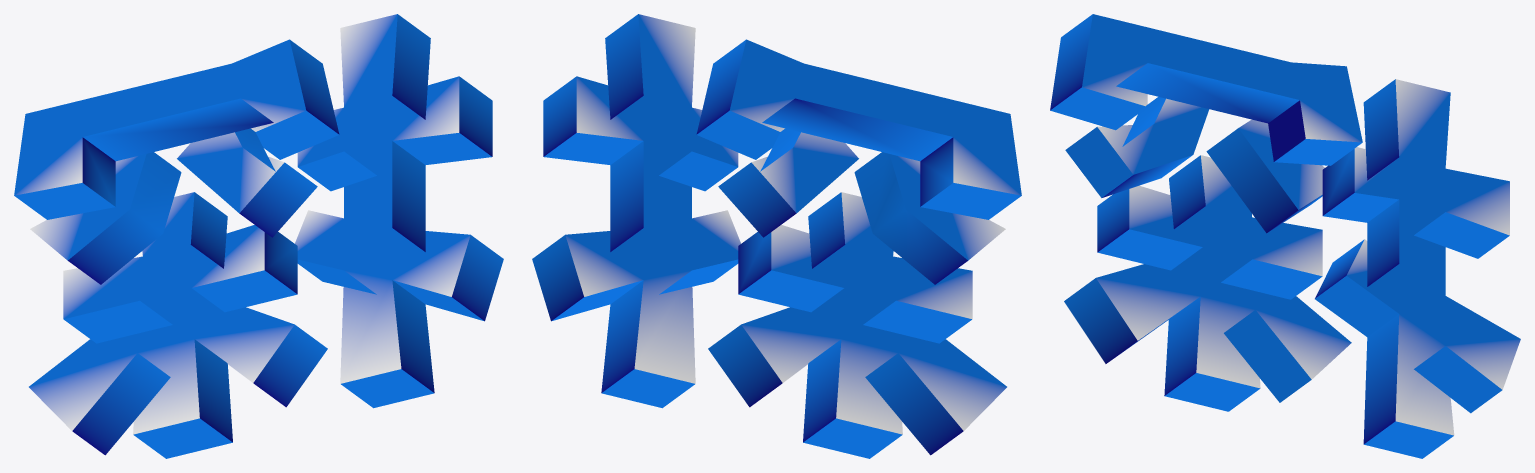
The model's file is ps2_save-icons_sagashiniikouyo.glb.
The picture shows the model from 3 angles, left to right: view 1: azimuth 30°, elevation 25°; view 2: azimuth 150°, elevation 25°; view 3: azimuth 330°, elevation 25°; orthographic projection. The views are drawn at different scales.
Parts seen in each view (by area): view 1: sagasu.ico; view 2: sagasu.ico; view 3: sagasu.ico.
Part boxes in pixels (x1=…): sagasu.ico: x1=14, y1=14, x2=503, y2=458; sagasu.ico: x1=532, y1=14, x2=1021, y2=458; sagasu.ico: x1=1050, y1=14, x2=1520, y2=458.
Bounding box in the file's own units: 4.96 × 3.71 × 0.625.
Materials: 1 (1 with a texture image).
